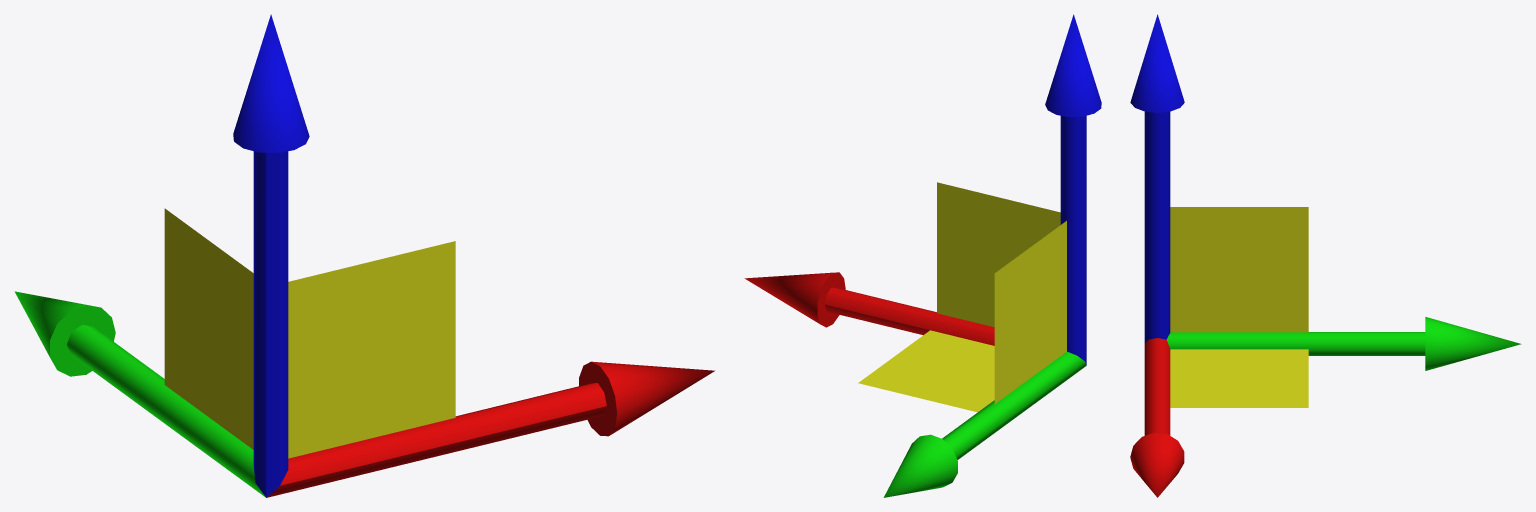
Rendered from transform-manipulator-position-with-planes.FBX.
3 renders of one model, left to right at view 1: azimuth 30°, elevation 25°; view 2: azimuth 150°, elevation 25°; view 3: azimuth 270°, elevation 25°, orthographic. The views are drawn at different scales.
Visible parts, largest first — view 1: transform-manipulator-position-with-planes; view 2: transform-manipulator-position-with-planes; view 3: transform-manipulator-position-with-planes.
Boxes of the visible parts, x1,y1,x2,y2 form: transform-manipulator-position-with-planes: (14, 14, 714, 497); transform-manipulator-position-with-planes: (744, 14, 1101, 497); transform-manipulator-position-with-planes: (1130, 14, 1521, 497).
Size of the model in its own units: 12.92 by 12.94 by 12.95.
